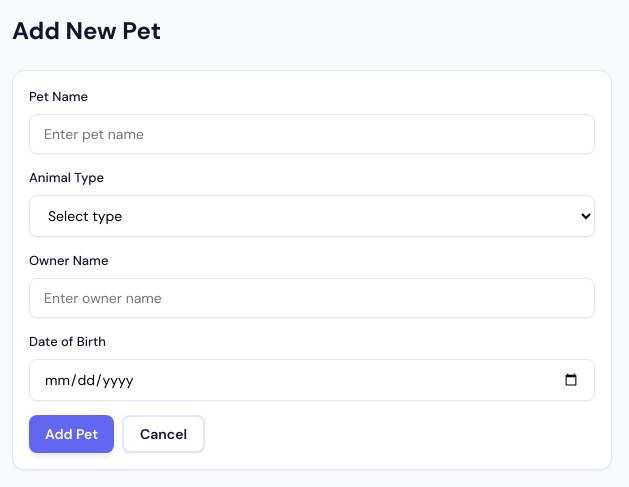
Scenario: PetForm - User Interactions › should disable submit button while submitting
Fill form with valid data
Type "Buddy" into the field with placeholder "Enter pet name" at (312,134), box [29,114,595,154]
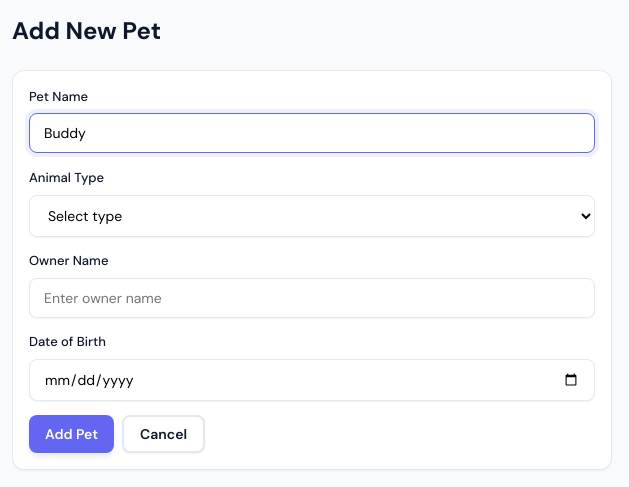
Select "Dog" in the dropdown with class "form-select" at (312,216), box [29,195,595,237]
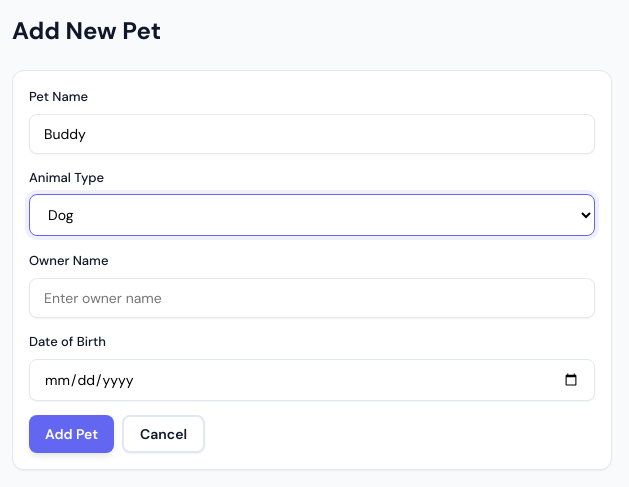
Type "John Doe" into the field with placeholder "Enter owner name" at (312,298), box [29,278,595,318]
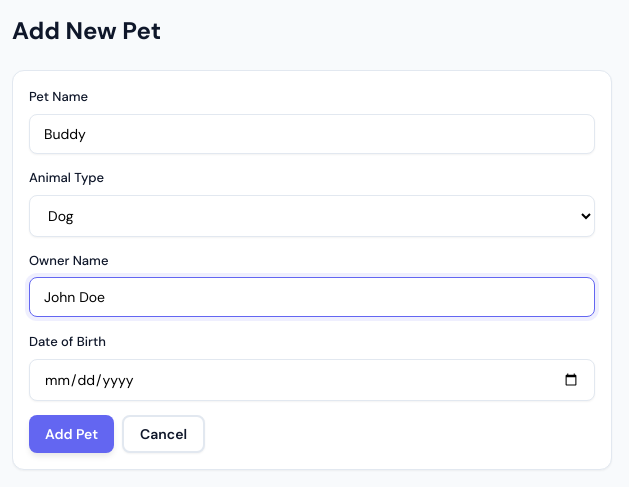
Type "2020-01-15" into the date field at (312,380), box [29,359,595,401]
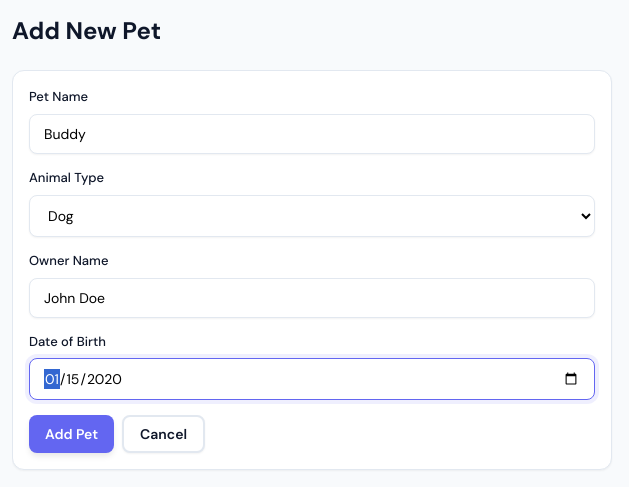
Click the button "Add Pet" at (72,434), box [29,415,114,453]
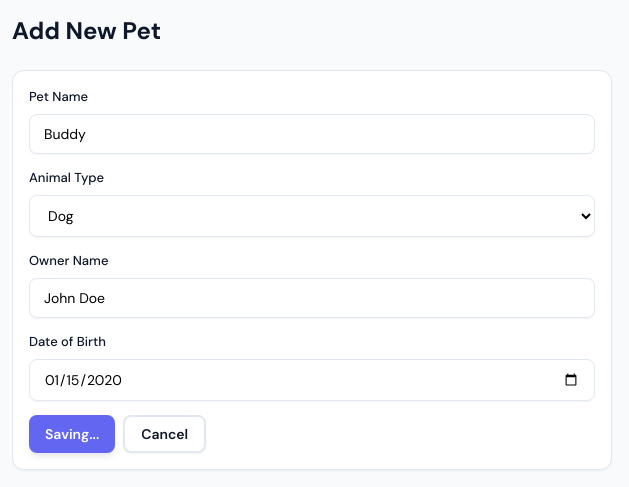
Expected: the button "Saving..." is disabled, [29,415,115,453]
